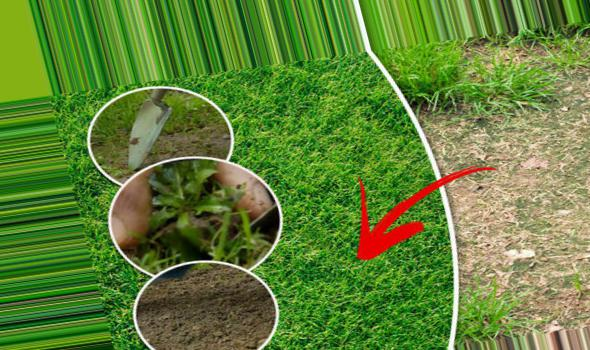patch: (466, 185, 585, 284), (461, 135, 570, 159)
